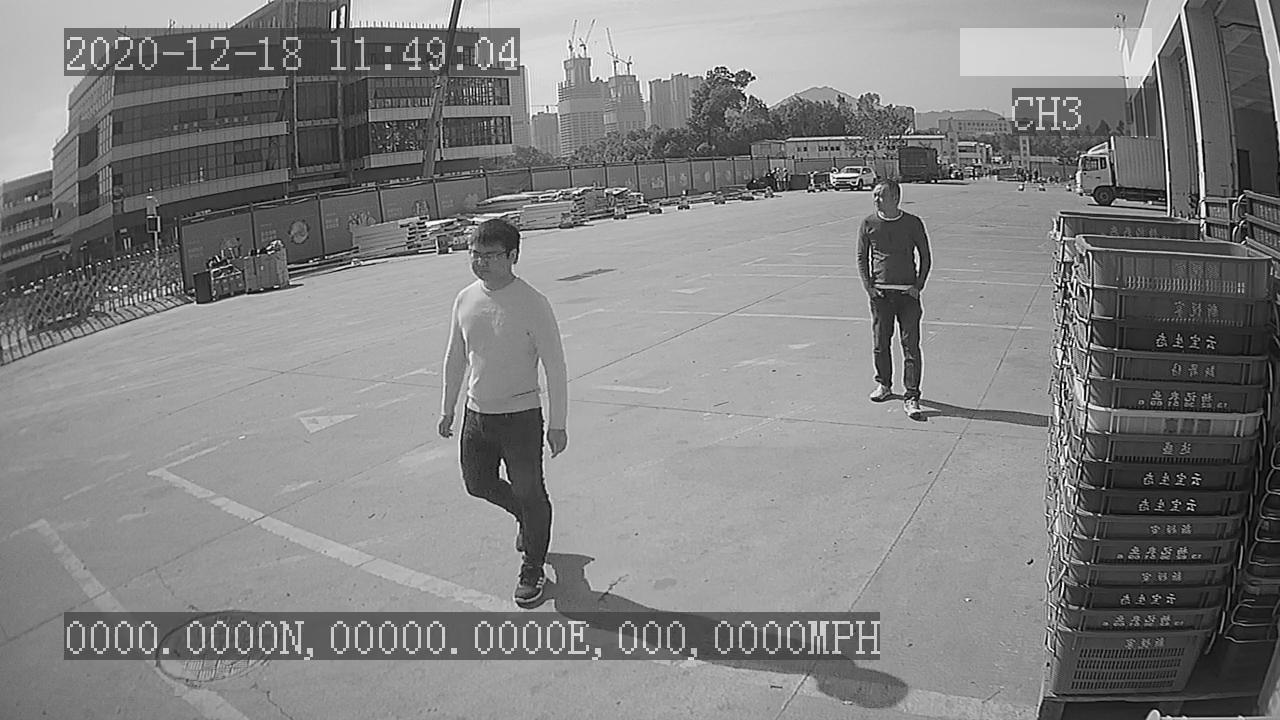person: (438, 217, 574, 610), (851, 176, 936, 422)
